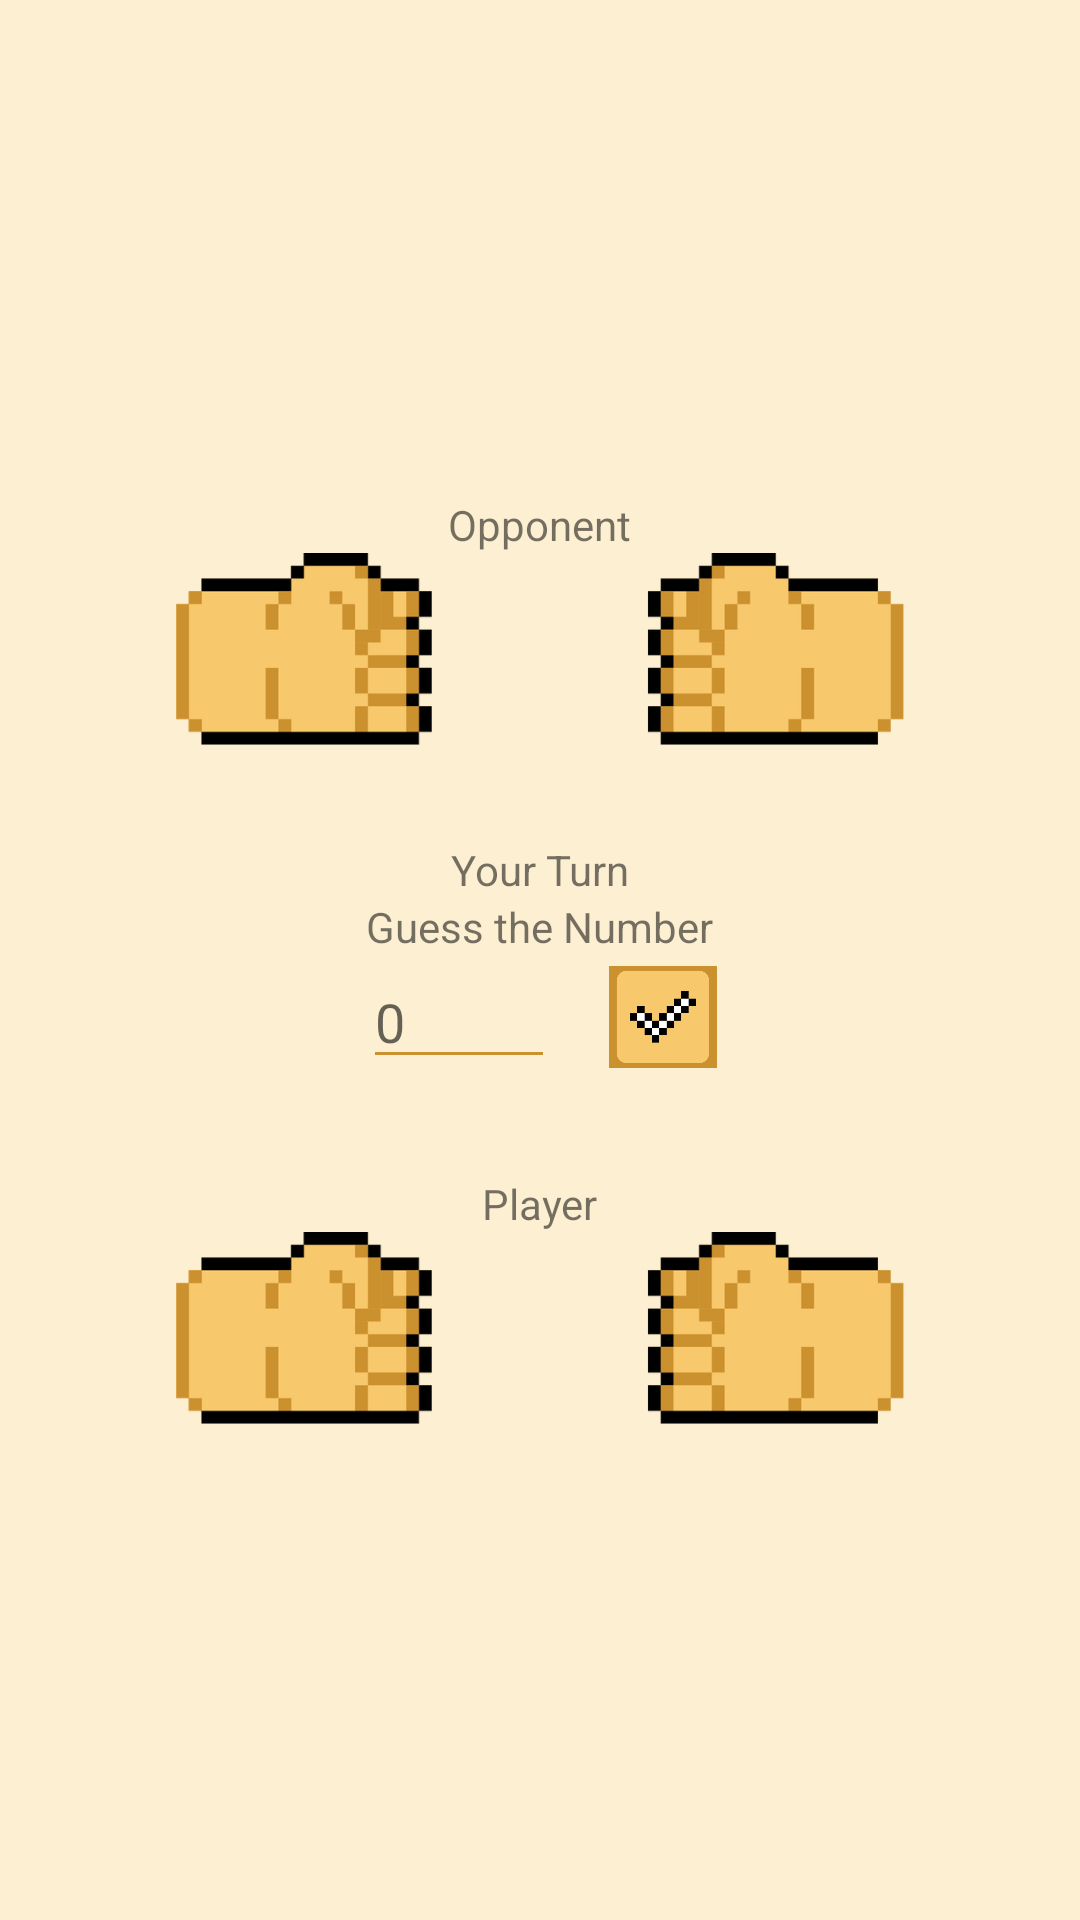

Icon bounding boxes for this 1080w x 1920h phone screenshot, format region(x1, y1, x2, y2):
check: region(609, 966, 717, 1068)
